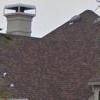Chimney: (1, 2, 41, 43)
